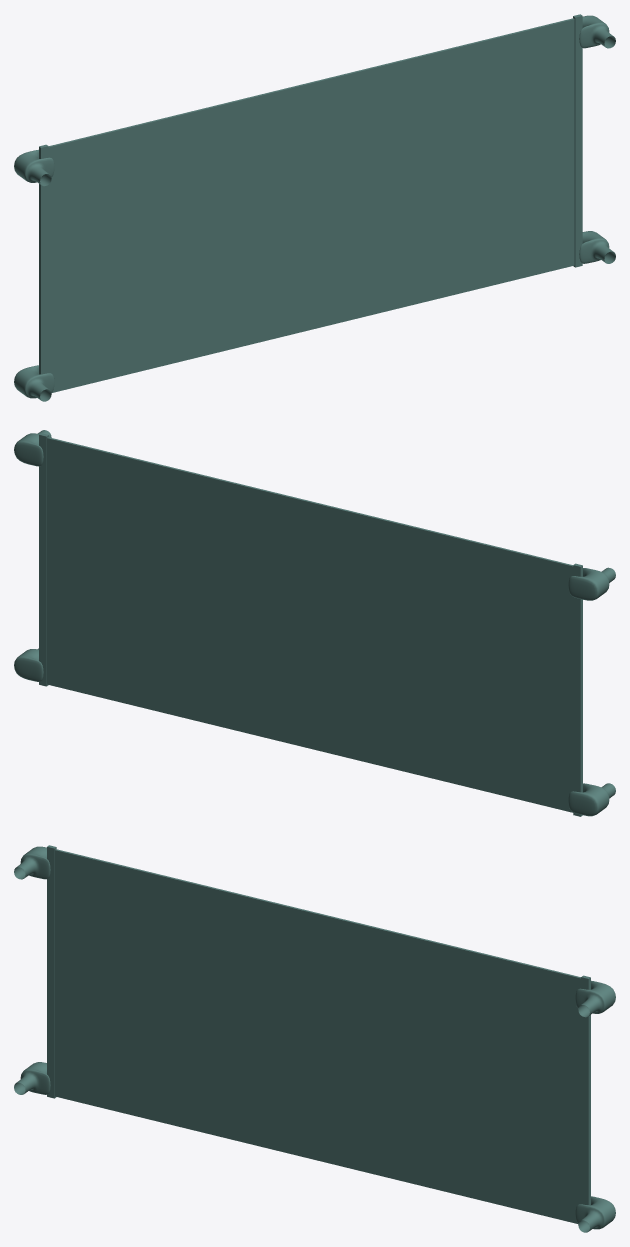
Rendered from fernseher.fbx.
The picture shows the model from 3 angles, top to bottom: view 1: azimuth 30°, elevation 25°; view 2: azimuth 150°, elevation 25°; view 3: azimuth 330°, elevation 25°; orthographic projection.
Visible parts, largest first — view 1: fernseher; view 2: fernseher; view 3: fernseher.
Boxes of the visible parts, x1=… form: fernseher: x1=14, y1=14, x2=615, y2=401; fernseher: x1=14, y1=430, x2=615, y2=816; fernseher: x1=14, y1=845, x2=615, y2=1232.
Bounding box in the file's own units: 4.86 × 1.98 × 0.3295.
